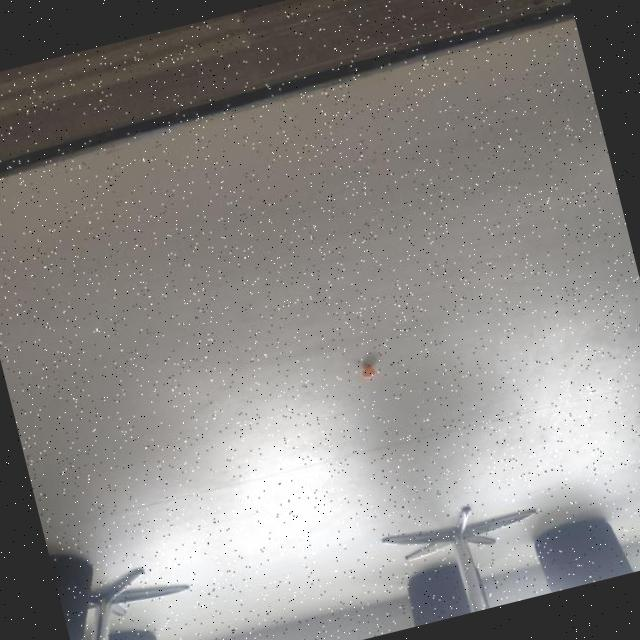ping-pong-ball: (358, 362, 378, 378)
